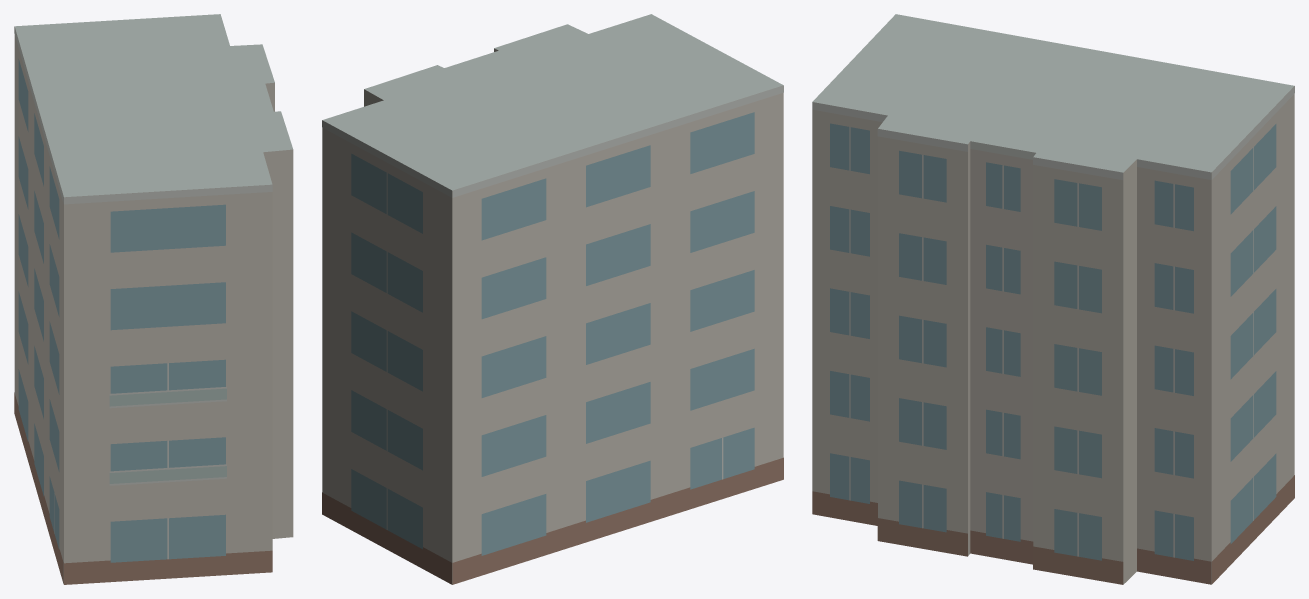
Rendered from survey-upis-32751043.glb.
3 views of the same model, side by side, from view 1: azimuth 30°, elevation 25°; view 2: azimuth 150°, elevation 25°; view 3: azimuth 270°, elevation 25° (orthographic). The views are drawn at different scales.
Parts seen in each view (by area): view 1: survey-upis-32751043.tmp; view 2: survey-upis-32751043.tmp; view 3: survey-upis-32751043.tmp.
Boxes of the visible parts, x1,y1,x2,y2 form: survey-upis-32751043.tmp: (14,14,293,584); survey-upis-32751043.tmp: (322,14,783,584); survey-upis-32751043.tmp: (812,14,1294,584).
Size of the model in its own units: 10.82 by 13.1 by 13.9.
